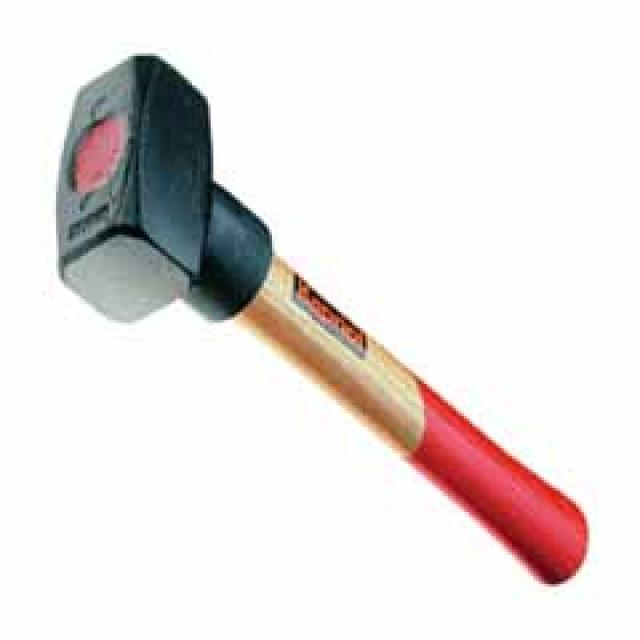hammer: (51, 47, 594, 594)
